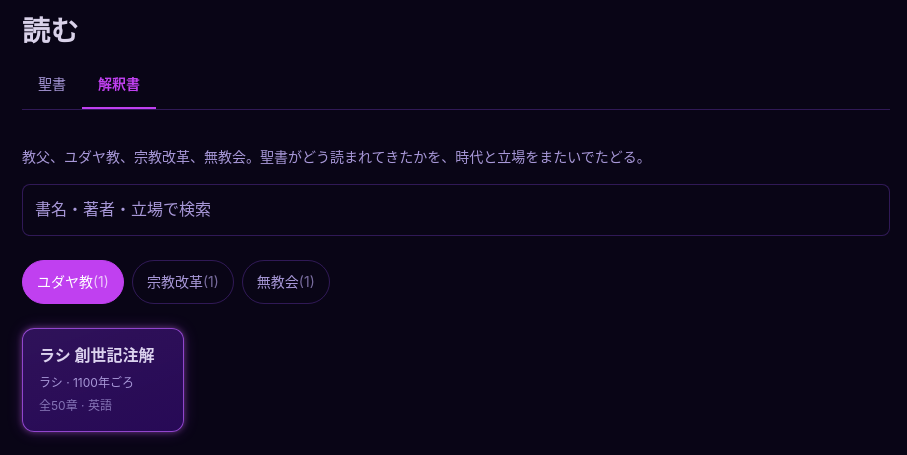
「読む」の解釈書タブ › 書名・著者・立場で検索できる
Type "カルヴァン" into the search field named "解釈書を検索" at point(456, 210), box [22,184,890,236]
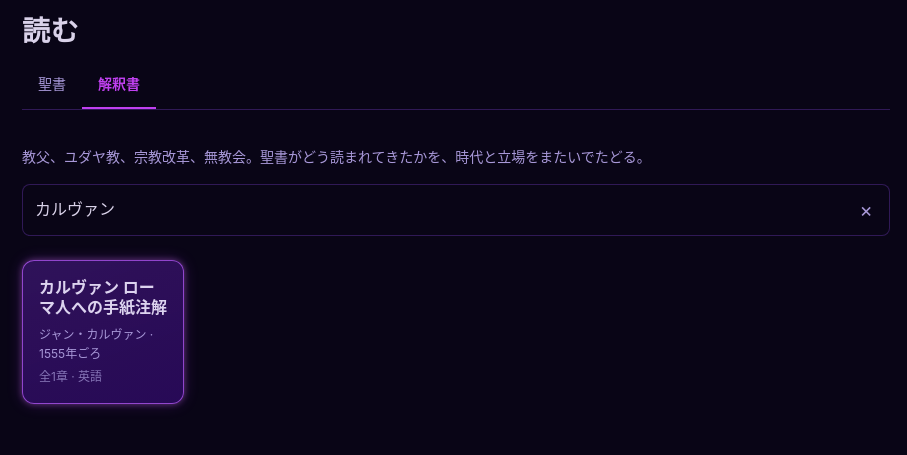
Check: the link "カルヴァン ローマ人への手紙注解 ジャン・カルヴァン · 1555年ごろ 全1章 · 英語" is shown, box [22,260,184,404]
Check: the link "ラシ" is gone
Replace the text in the search field named "解釈書を検索" with "無教会" at point(456, 210), box [22,184,890,236]
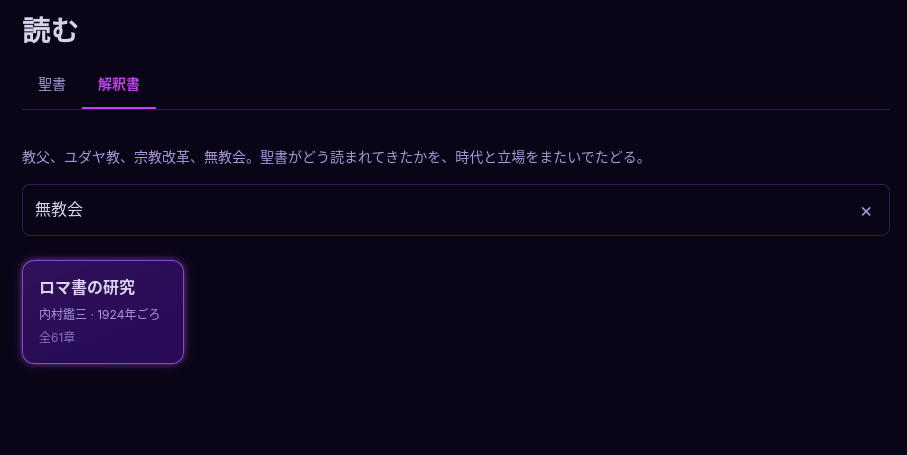
Check: the link "ロマ書の研究 内村鑑三 · 1924年ごろ 全61章" is shown, box [22,260,184,364]
Replace the text in the search field named "解釈書を検索" with "該当なし" at point(456, 210), box [22,184,890,236]
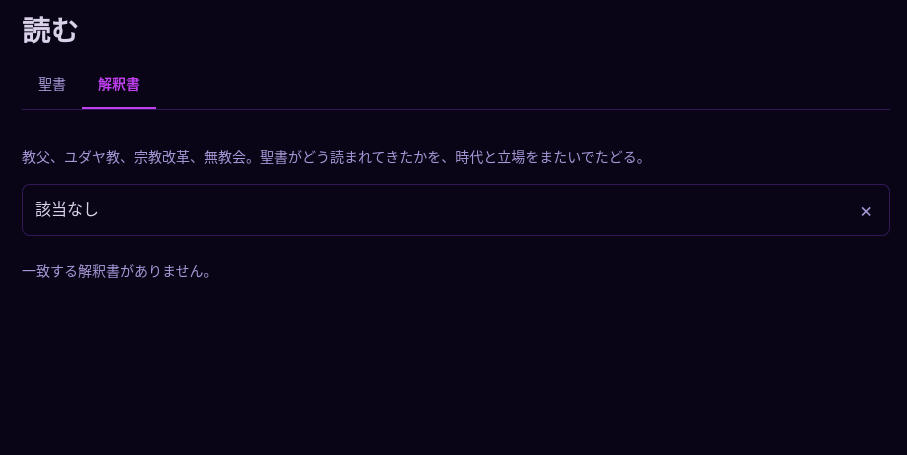
Check: the text "一致する解釈書がありません。" is shown, box [22,262,218,279]
